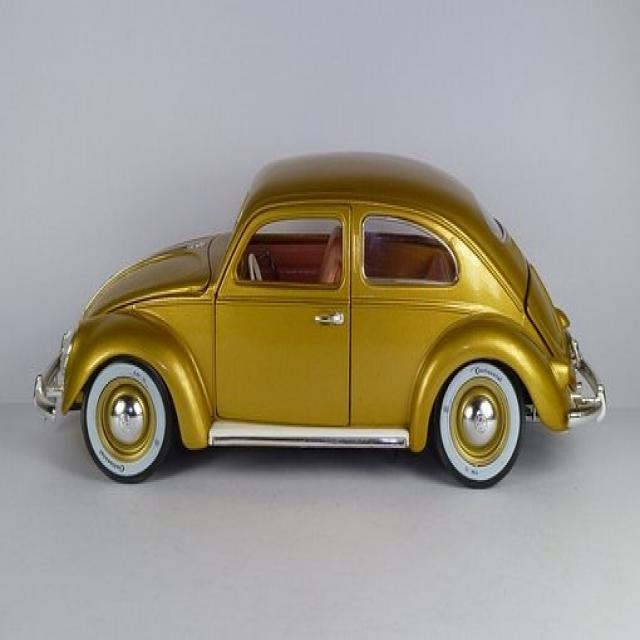cars: (42, 156, 594, 480)
